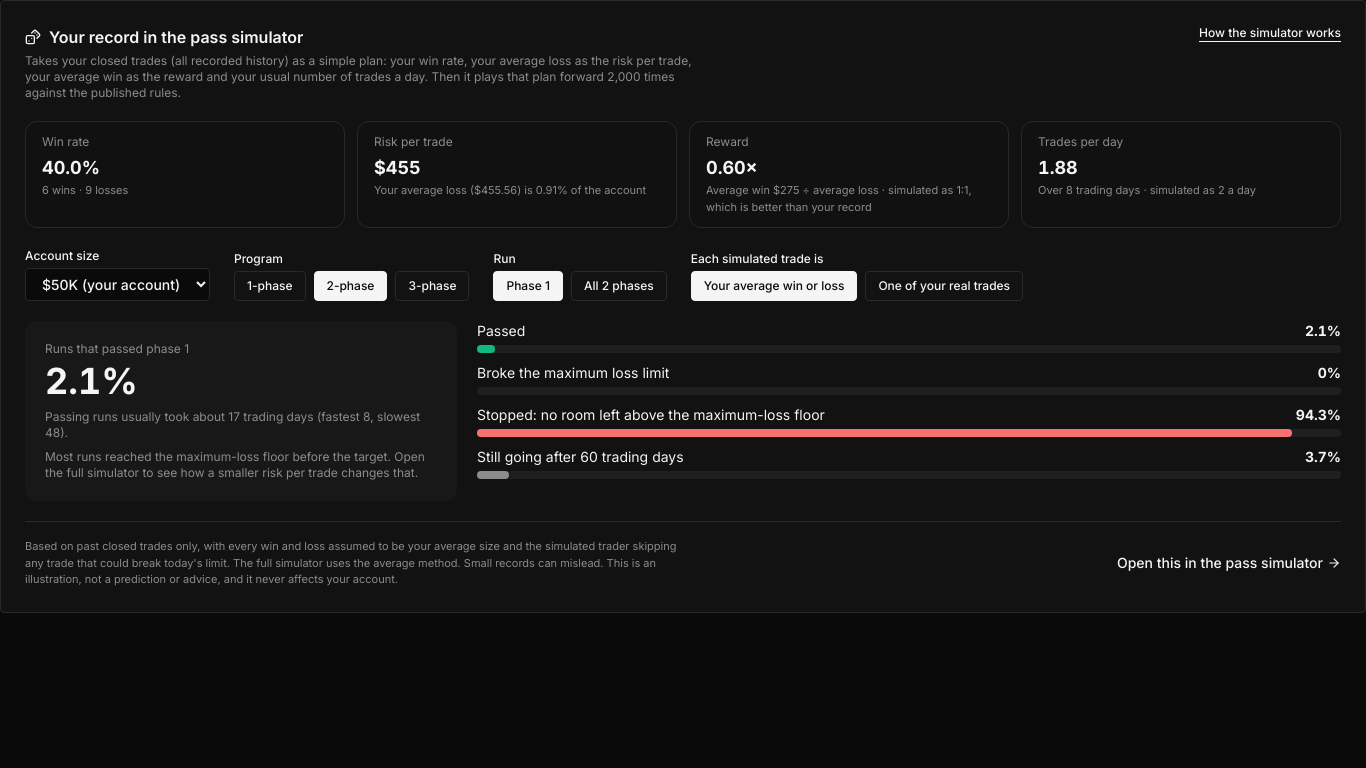
Test: JournalSimulatorCard replay › warns when the biggest real loss alone would break the daily limit at the chosen size
Click the button "One of your real trades". click: (944,286)
box: [865,271,1023,301]
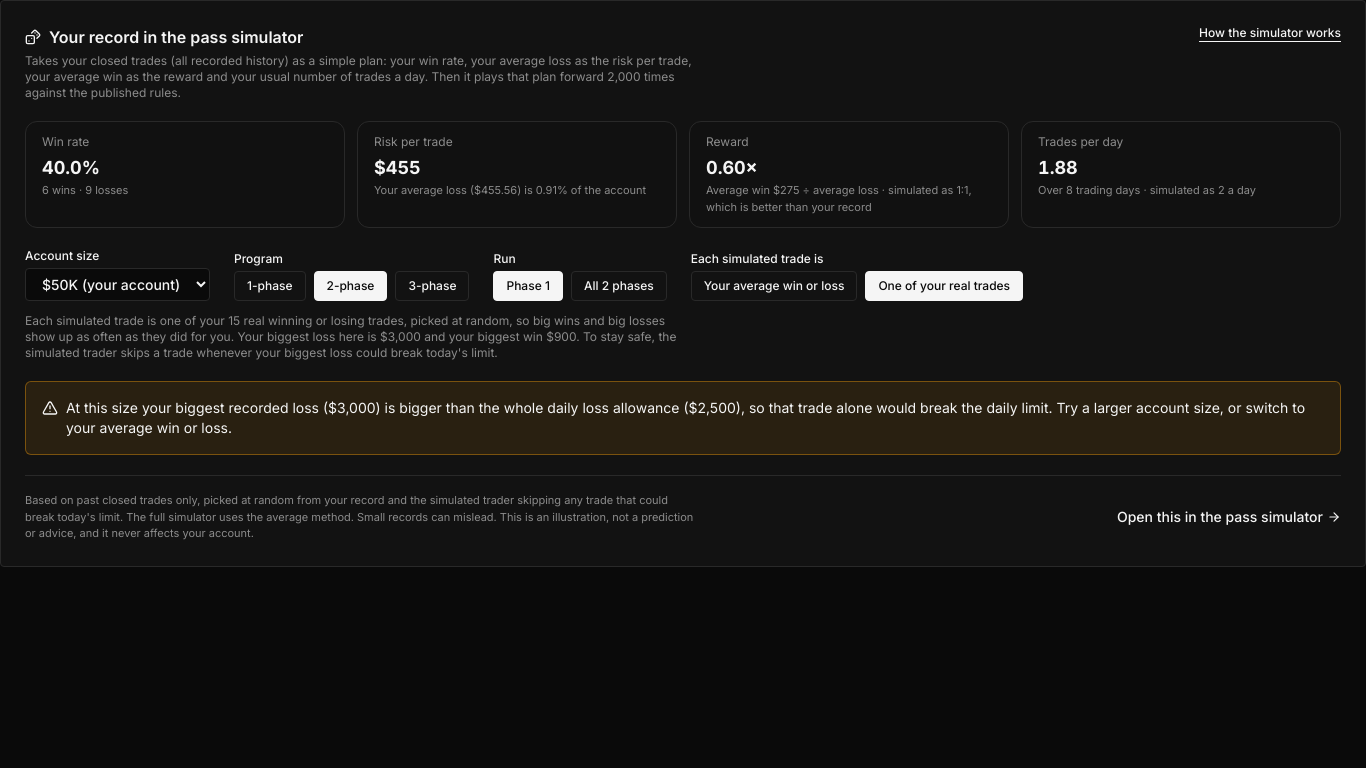
Now the message shows "biggest recorded loss ($3,000)", box [25,381,1341,455]
Now the text with test id "journal-sim-pass" is gone
